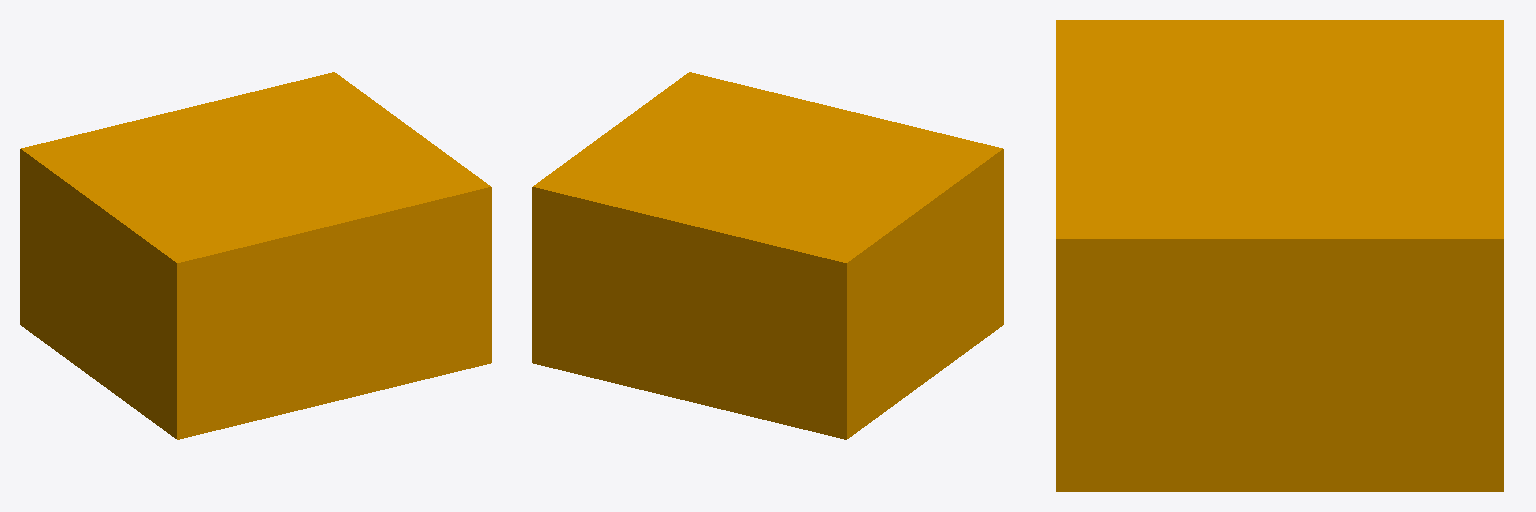
URDF robot description (object):
<?xml version="1.0"?>
<!-- Auto-generated by tools/gen_primitive_objects.py. kind=box dims=(0.088324, 0.076357, 0.047448) -->
<robot name="object">
  <link name="object">
    <visual>
      <origin xyz="0 0 0"/>
      <geometry>
        <box size="0.088324 0.076357 0.047448"/>
      </geometry>
    </visual>
    <collision>
      <origin xyz="0 0 0"/>
      <geometry>
        <box size="0.088324 0.076357 0.047448"/>
      </geometry>
    </collision>
    <inertial>
      <mass value="0.063999"/>
      <inertia ixx="0.00004310" ixy="0.0" ixz="0.0" iyy="0.00005361" iyz="0.0" izz="0.00007270"/>
    </inertial>
  </link>
</robot>

--- What the picture shows (computed from the rendered views, not written in the file) ---
Views: 3 orthographic renders of the robot side by side, from view 1: azimuth 30°, elevation 25°; view 2: azimuth 150°, elevation 25°; view 3: azimuth 270°, elevation 25°.
Robot: object — 1 links, 0 joints (none); root link object; default pose: every joint at zero.
Visible links, largest first — view 1: object; view 2: object; view 3: object.
Boxes of the visible links, x1,y1,x2,y2 form: object: (20,72,491,439); object: (532,72,1003,439); object: (1056,20,1503,491).
Bounding box of the posed robot: 0.0883 × 0.0764 × 0.0474 m (x, y, z).
Geometry: primitives only (box / cylinder / sphere), no mesh files.
